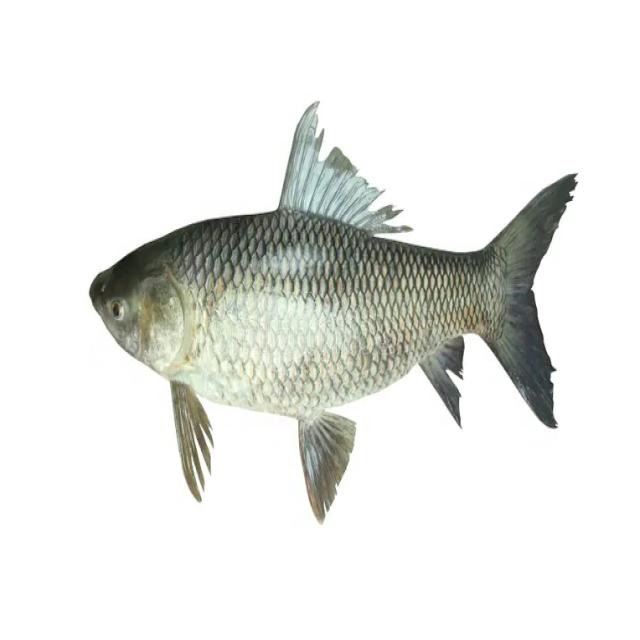Rohu: (89, 106, 573, 528)
